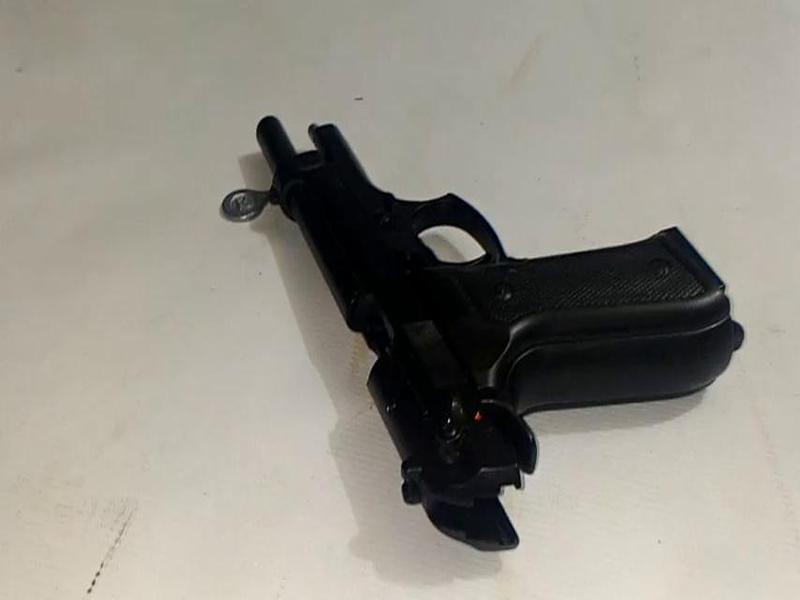Pistola: (215, 84, 763, 562)
